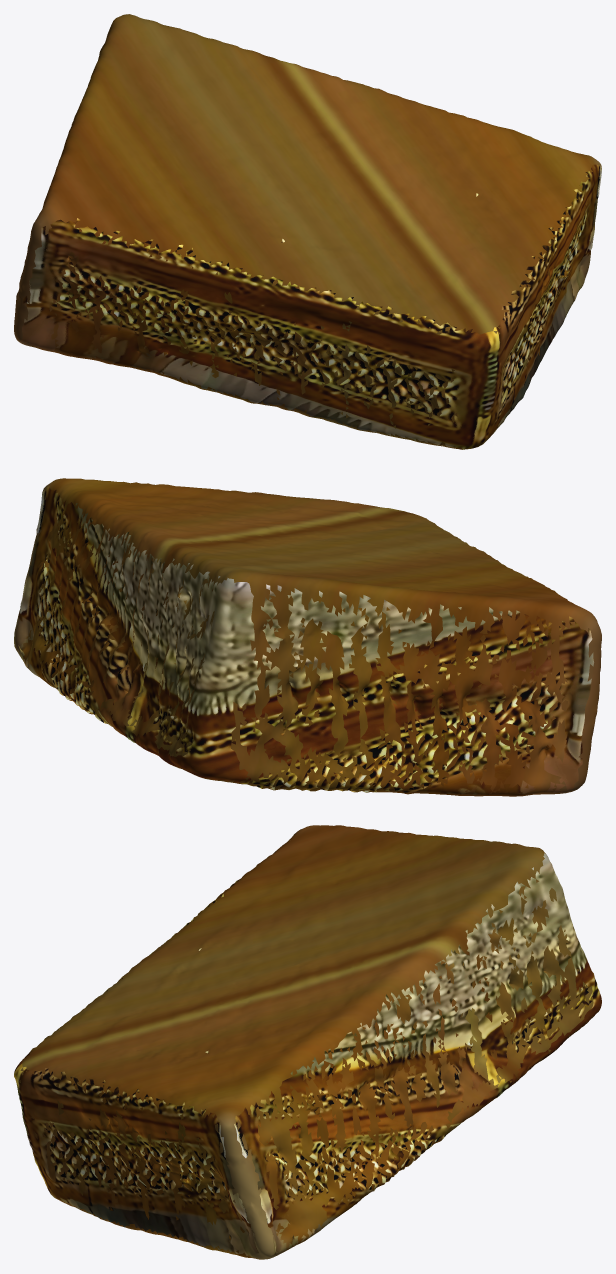
Rendered from kfl-2302.glb.
The picture shows the model from 3 angles, top to bottom: view 1: azimuth 30°, elevation 25°; view 2: azimuth 150°, elevation 25°; view 3: azimuth 270°, elevation 25°; orthographic projection. The views are drawn at different scales.
Parts seen in each view (by area): view 1: kfl-2302; view 2: kfl-2302; view 3: kfl-2302.
Part boxes in pixels (x1,y1,x2,y2): kfl-2302: (14,14,601,449); kfl-2302: (14,478,601,796); kfl-2302: (14,825,601,1259).
Size of the model in its own units: 0.9936 by 0.5066 by 0.9288.
4 materials, 4 textured.
